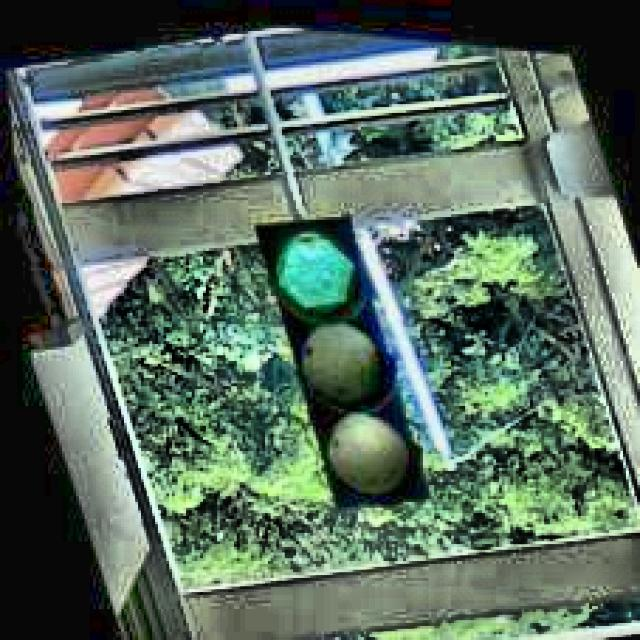green: (241, 198, 436, 512)
